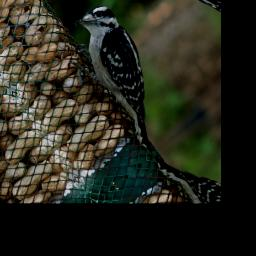Woodpecker: (47, 0, 198, 163)
